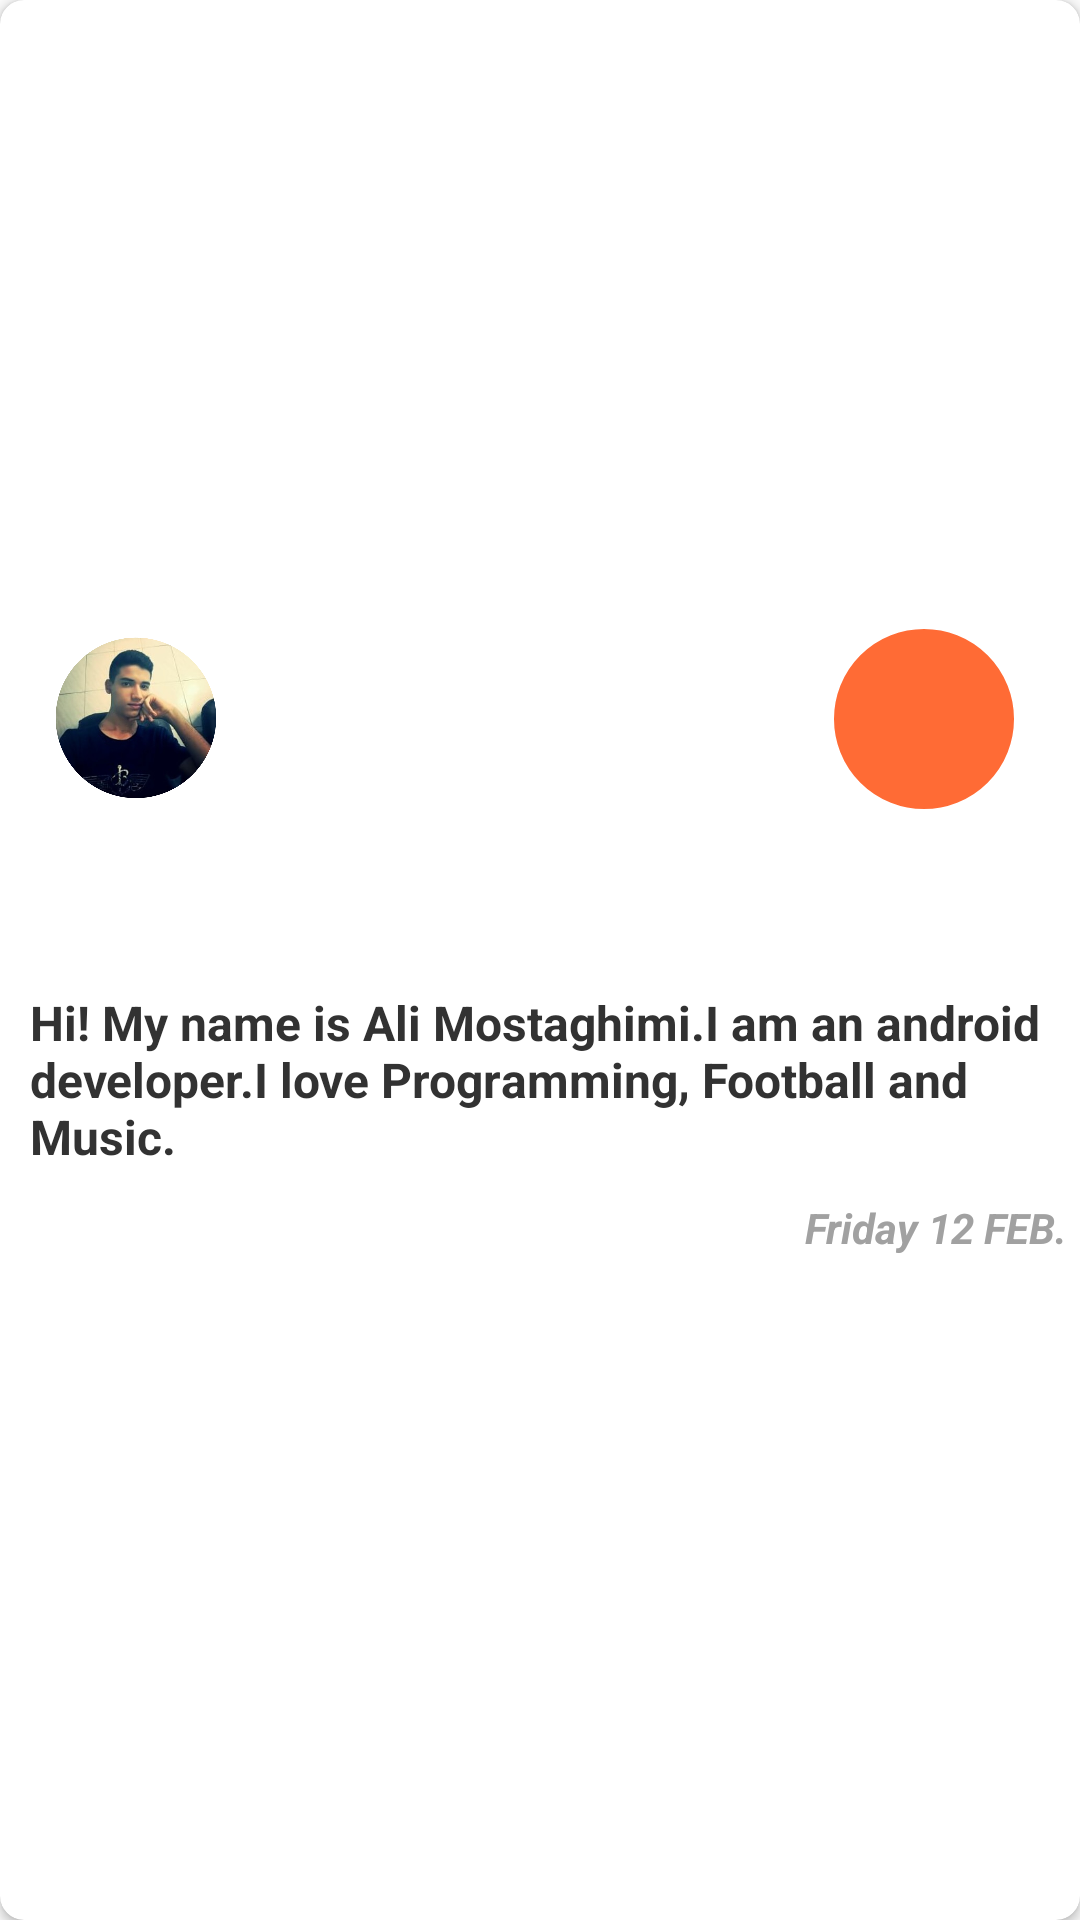

Icon click points for this 1080 x 1920 phone screenshot, format (x=x, y=y):
profile: (x=136, y=718)
